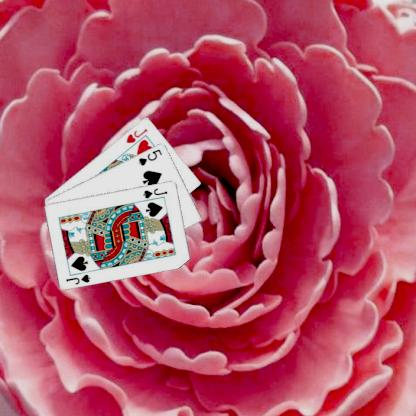5S: (136, 146, 163, 167)
JH: (123, 126, 149, 144)
JS: (140, 185, 168, 200), (63, 272, 92, 286)
